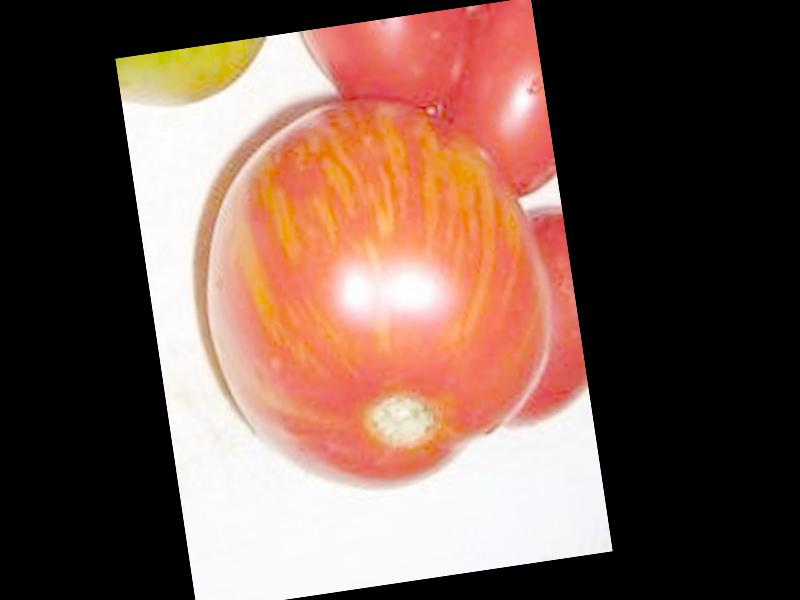Tomato: (179, 73, 576, 516)
